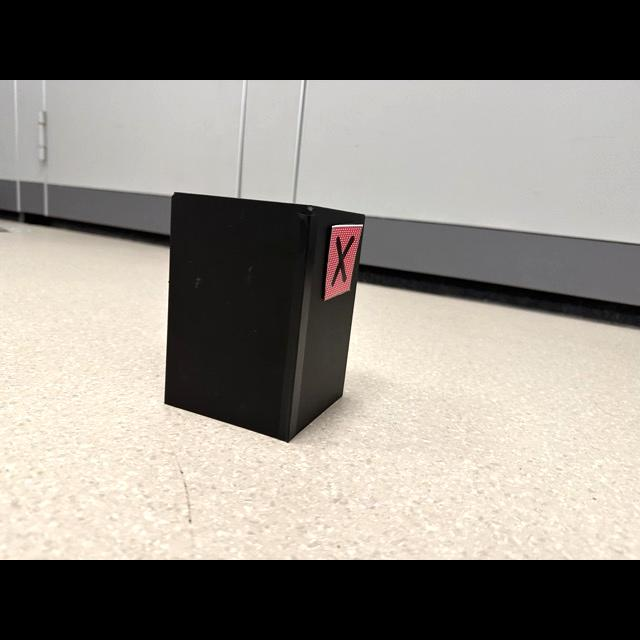X: (331, 236, 355, 287)
